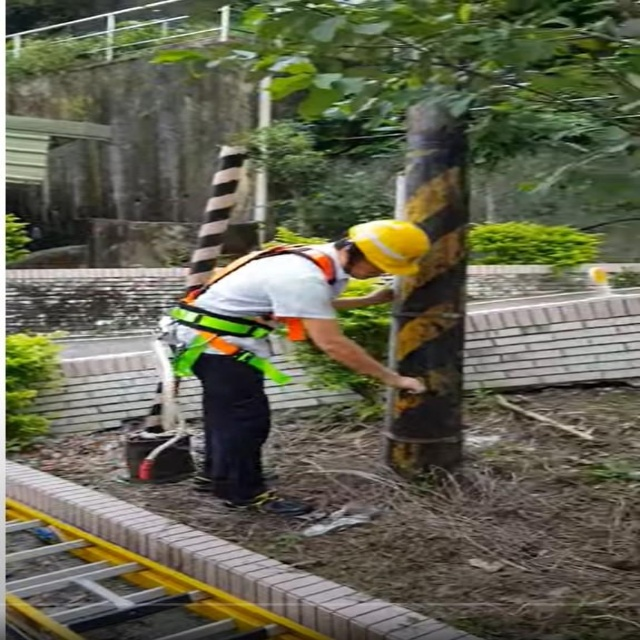Arnes_seguridad: (166, 241, 338, 385)
